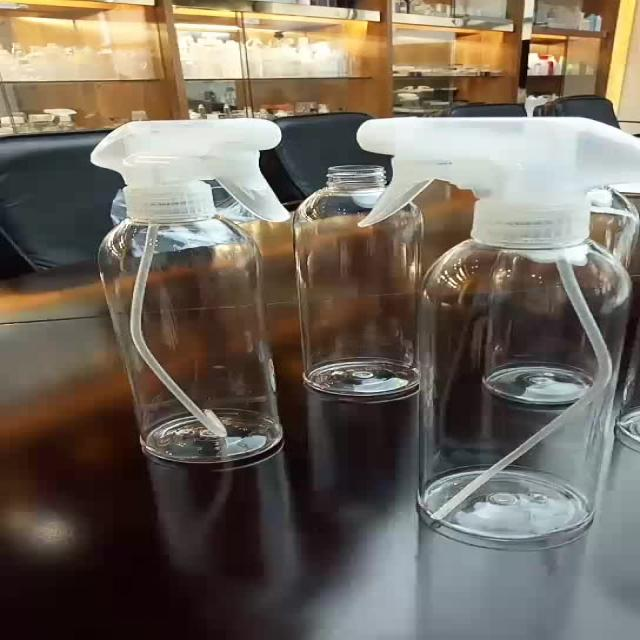plastic: (356, 115, 640, 544), (90, 117, 294, 464), (292, 165, 422, 398)
